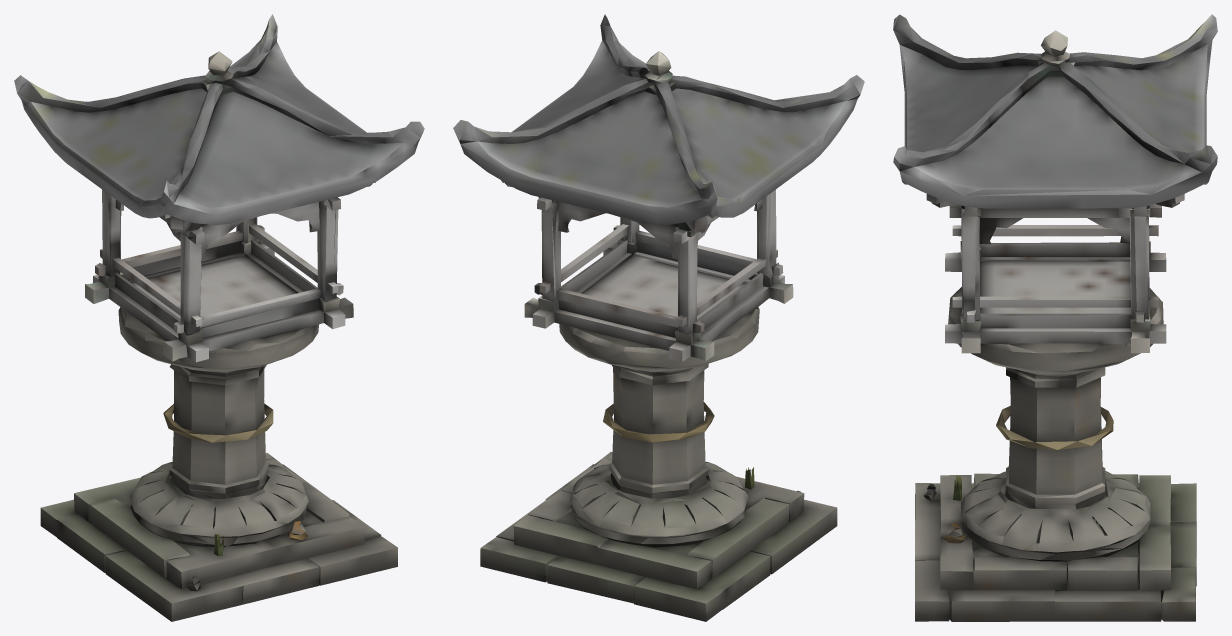
Rendered from great_lantern_mid.glb.
3 renders of one model, left to right at view 1: azimuth 30°, elevation 25°; view 2: azimuth 150°, elevation 25°; view 3: azimuth 270°, elevation 25°, orthographic. The views are drawn at different scales.
Visible parts, largest first — view 1: great_lantern_mid_LOD0; view 2: great_lantern_mid_LOD0; view 3: great_lantern_mid_LOD0.
Boxes of the visible parts, <box> form: great_lantern_mid_LOD0: <box>14,14,424,621</box>; great_lantern_mid_LOD0: <box>453,14,864,621</box>; great_lantern_mid_LOD0: <box>893,14,1217,621</box>.
Bounding box in the file's own units: 3 × 5.41 × 2.99.
Materials: 6 (6 with a texture image).
